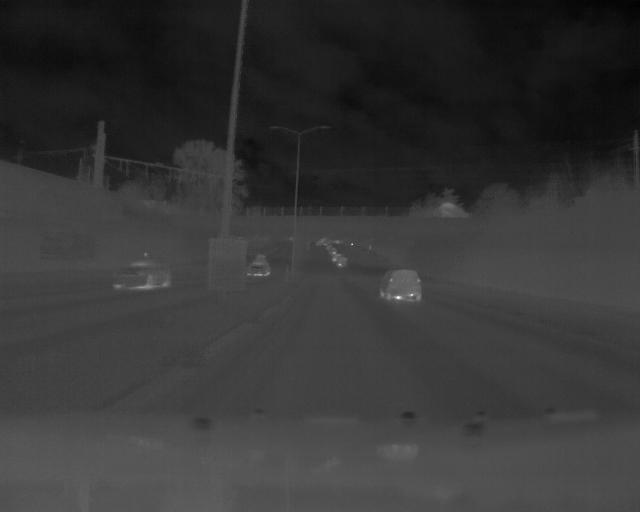car: (110, 254, 176, 295), (378, 264, 425, 306), (248, 255, 275, 278)
